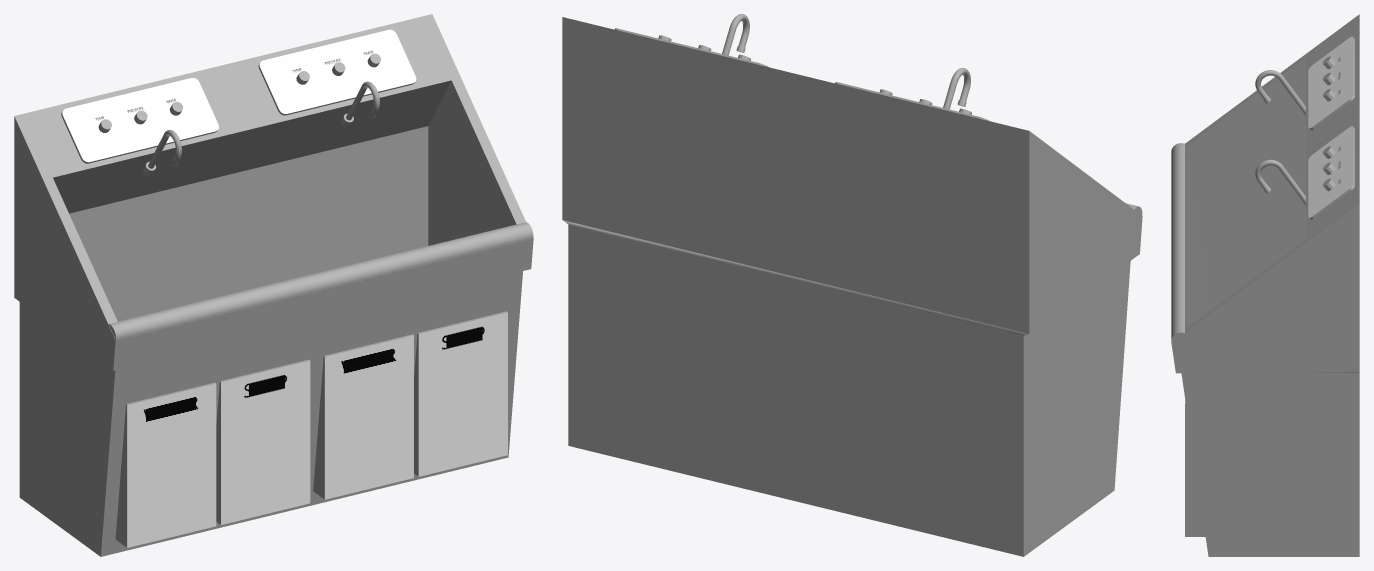
The model's file is ScrubSink.fbx.
3 renders of one model, left to right at view 1: azimuth 30°, elevation 25°; view 2: azimuth 150°, elevation 25°; view 3: azimuth 270°, elevation 25°, orthographic. The views are drawn at different scales.
Parts seen in each view (by area): view 1: Sink_Metal, Soap2_Tex, Water1_Tex, Soap1_Tex, Water2_Tex, Rail, Panel2_Tex, Panel1_Tex, Water1_Metal, Water2_Metal, Soap2_Metal, Soap1_Metal; view 2: Sink_Metal; view 3: Sink_Metal, Rail, Panel1_Tex, Panel2_Tex, Soap2_Metal, Tap1, Tap2, Panel1_Metal, Panel2_Metal.
Boxes of the visible parts, x1,y1,x2,y2 form: Sink_Metal: (14,14,533,556); Soap2_Tex: (418,312,507,476); Water1_Tex: (127,383,216,547); Soap1_Tex: (221,360,310,524); Water2_Tex: (325,335,413,499); Rail: (108,222,533,340); Panel2_Tex: (259,29,416,113); Panel1_Tex: (62,78,218,162); Water1_Metal: (115,382,215,547); Water2_Metal: (313,334,413,499); Soap2_Metal: (414,311,507,476); Soap1_Metal: (216,359,309,524); Sink_Metal: (562,17,1142,556); Sink_Metal: (1171,14,1359,556); Rail: (1171,143,1184,342); Panel1_Tex: (1308,36,1353,128); Panel2_Tex: (1308,126,1353,217); Soap2_Metal: (1185,399,1205,536); Tap1: (1255,70,1305,115); Tap2: (1255,159,1305,205); Panel1_Metal: (1309,37,1354,130); Panel2_Metal: (1309,127,1354,219).
Size of the model in its own units: 24.37 by 21.32 by 10.24.
